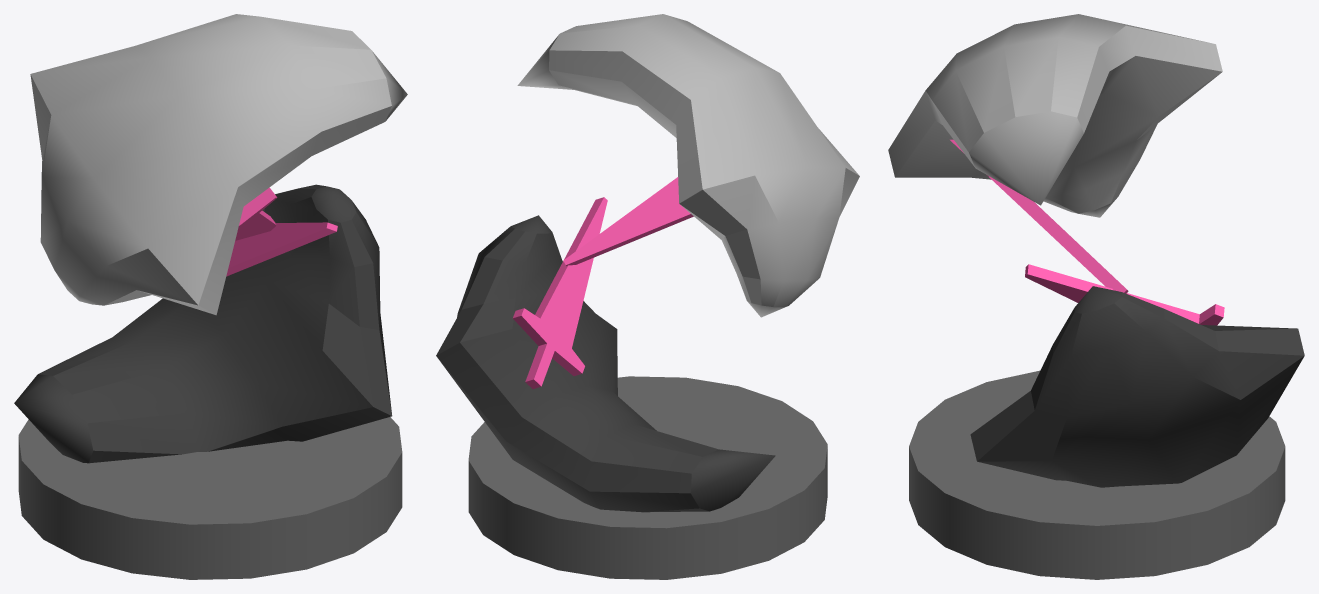
File: Valor.fbx
The picture shows the model from 3 angles, left to right: view 1: azimuth 30°, elevation 25°; view 2: azimuth 150°, elevation 25°; view 3: azimuth 270°, elevation 25°; orthographic projection. The views are drawn at different scales.
Parts seen in each view (by area): view 1: pCylinder10; view 2: pCylinder10; view 3: pCylinder10.
Part boxes in pixels (left/top/right/bottom): pCylinder10: left=14, top=14, right=407, bottom=579; pCylinder10: left=436, top=14, right=859, bottom=579; pCylinder10: left=888, top=14, right=1304, bottom=579.
Size of the model in its own units: 6.13 by 8.54 by 6.76.
Materials: 1 (1 with a texture image).
